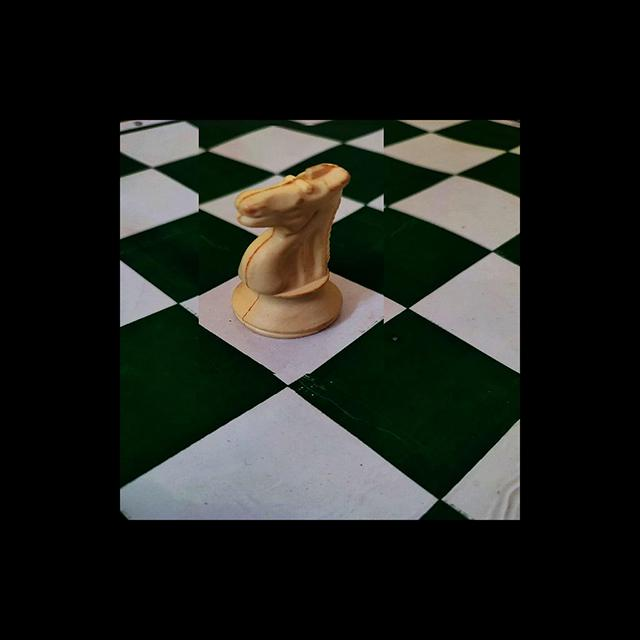white-knight: (234, 160, 346, 335)
